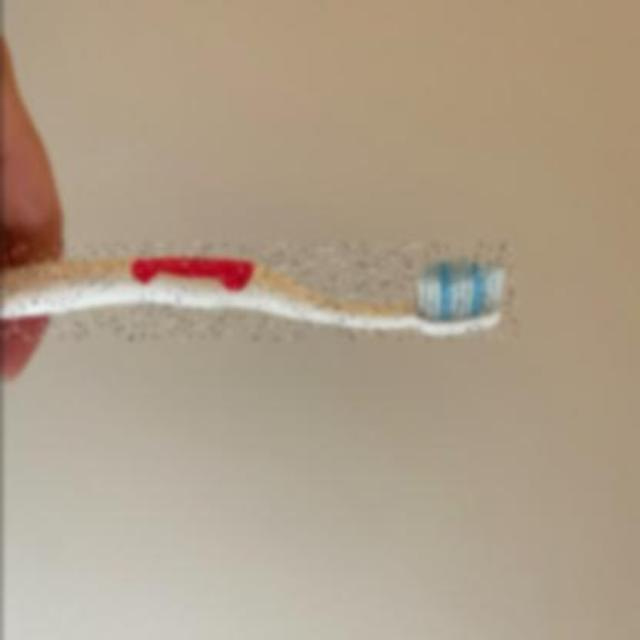toothbrush: (1, 244, 516, 340)
